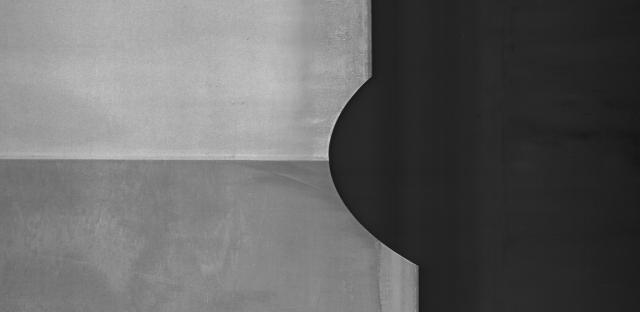welding_line: (1, 146, 334, 175)
